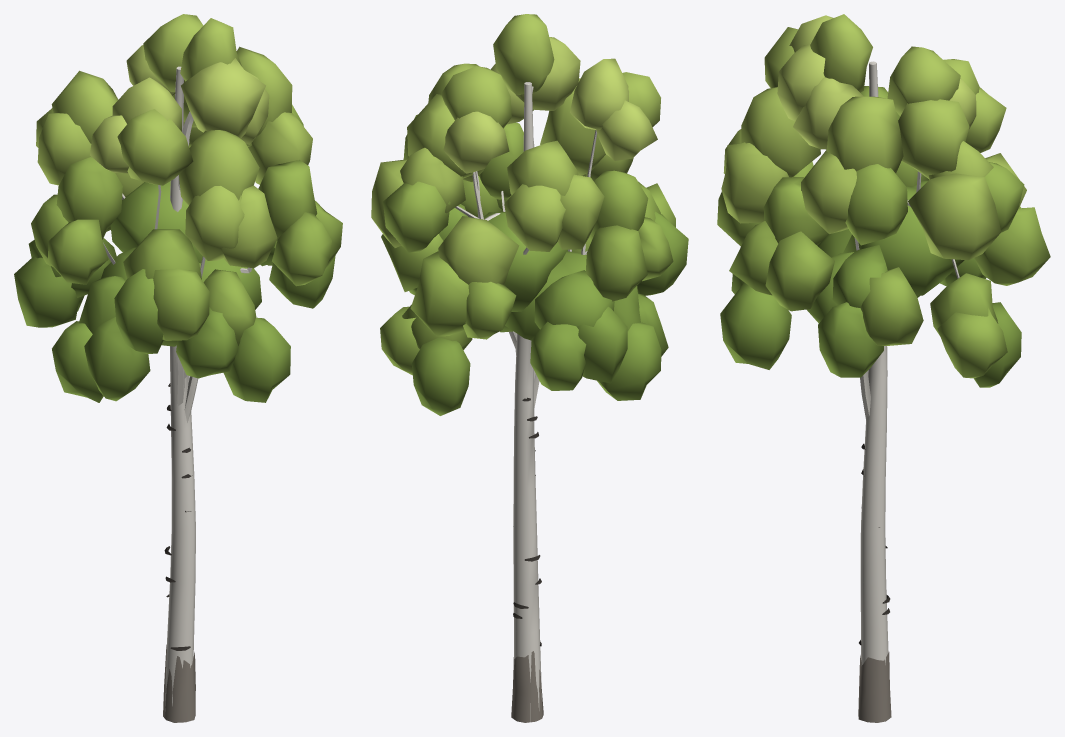
Rendered from birch.glb.
3 renders of one model, left to right at view 1: azimuth 30°, elevation 25°; view 2: azimuth 150°, elevation 25°; view 3: azimuth 270°, elevation 25°, orthographic. The views are drawn at different scales.
Parts seen in each view (by area): view 1: birch; view 2: birch; view 3: birch.
Boxes of the visible parts, bbox=[...] form: birch: bbox=[14, 14, 342, 722]; birch: bbox=[371, 14, 688, 722]; birch: bbox=[717, 14, 1050, 722].
Size of the model in its own units: 3.35 by 8.27 by 3.52.
